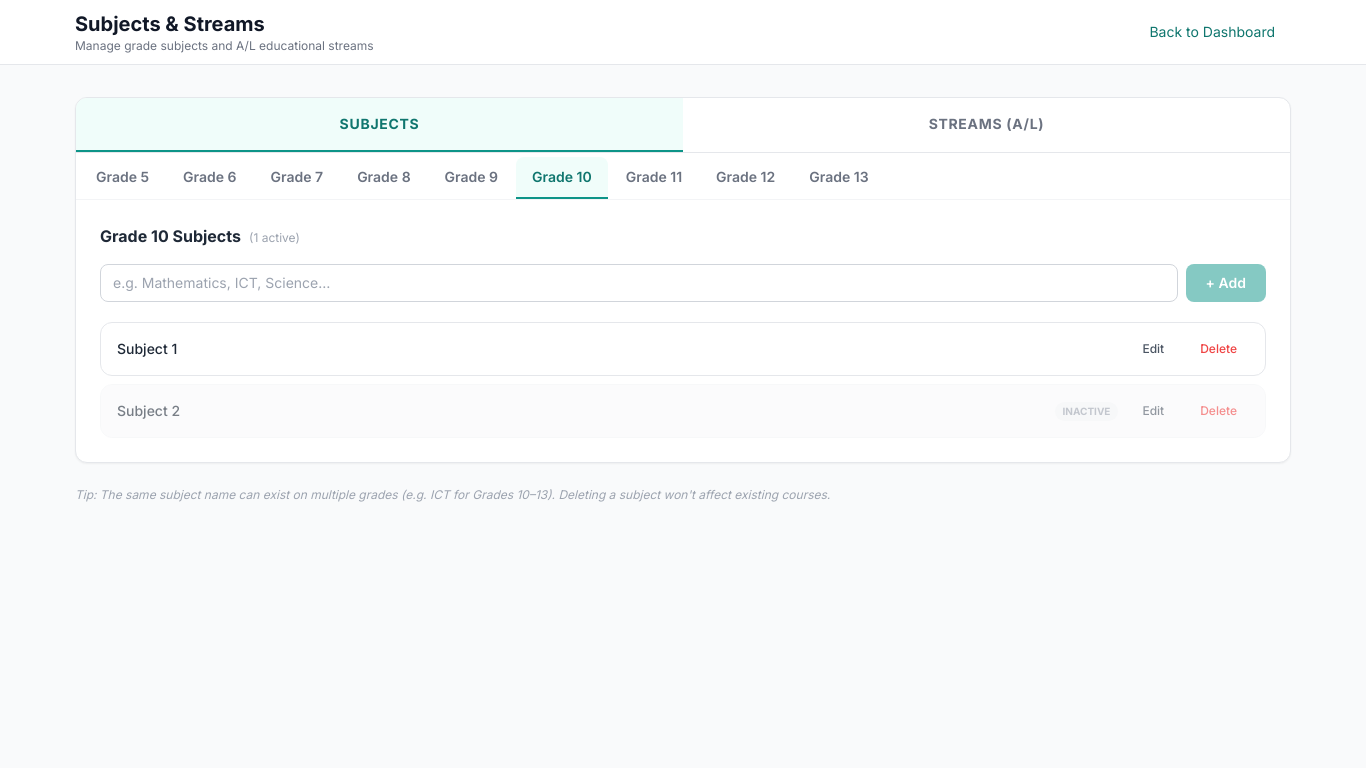
Test case: Subjects & streams › subjects tab › cancels an edit and reports a failed save
This screenshot has width=1366, height=768.
expect the text "Subject 1" is shown: met, box [117,340,177,357]
Click the button "Edit" in the row of "Subject 1" at (1153, 349), box [1130,335,1176,363]
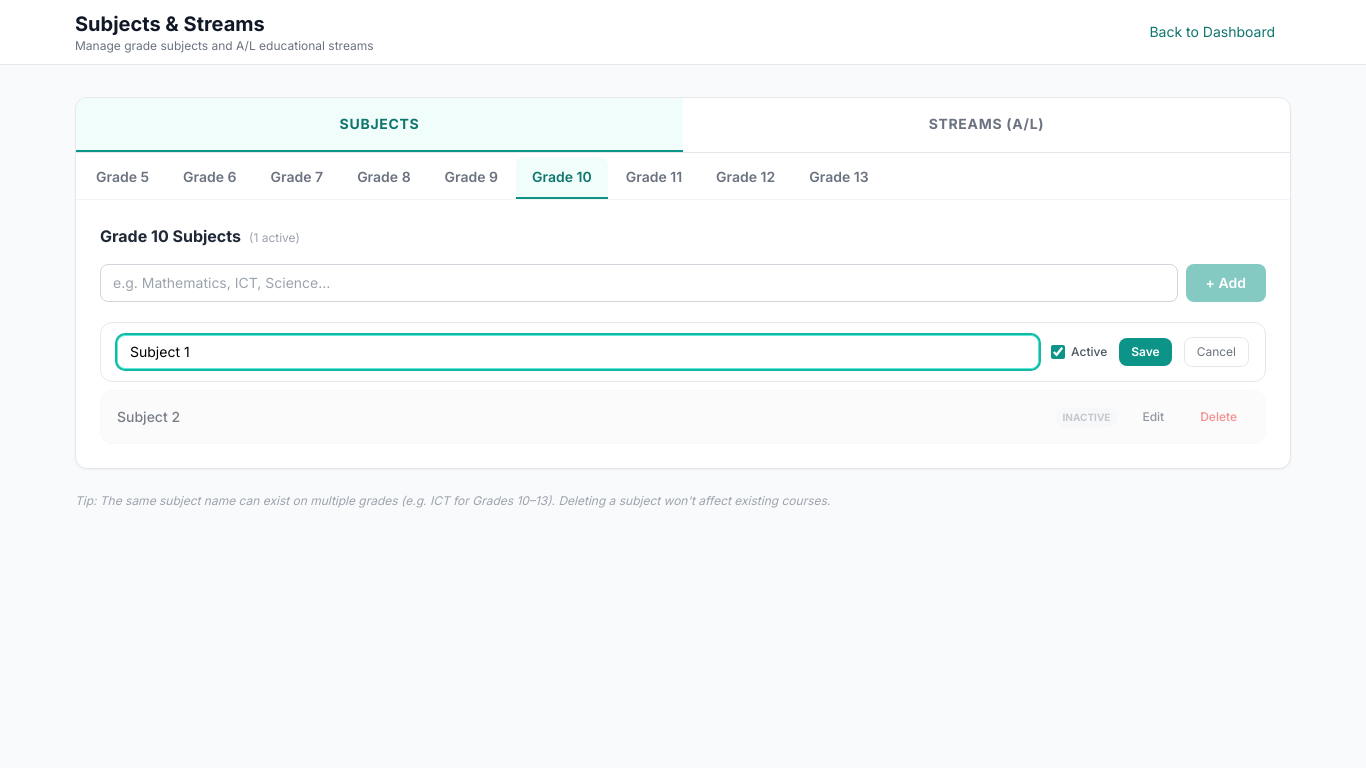
Click the button "Cancel" at (1216, 352), box [1184,337,1249,367]
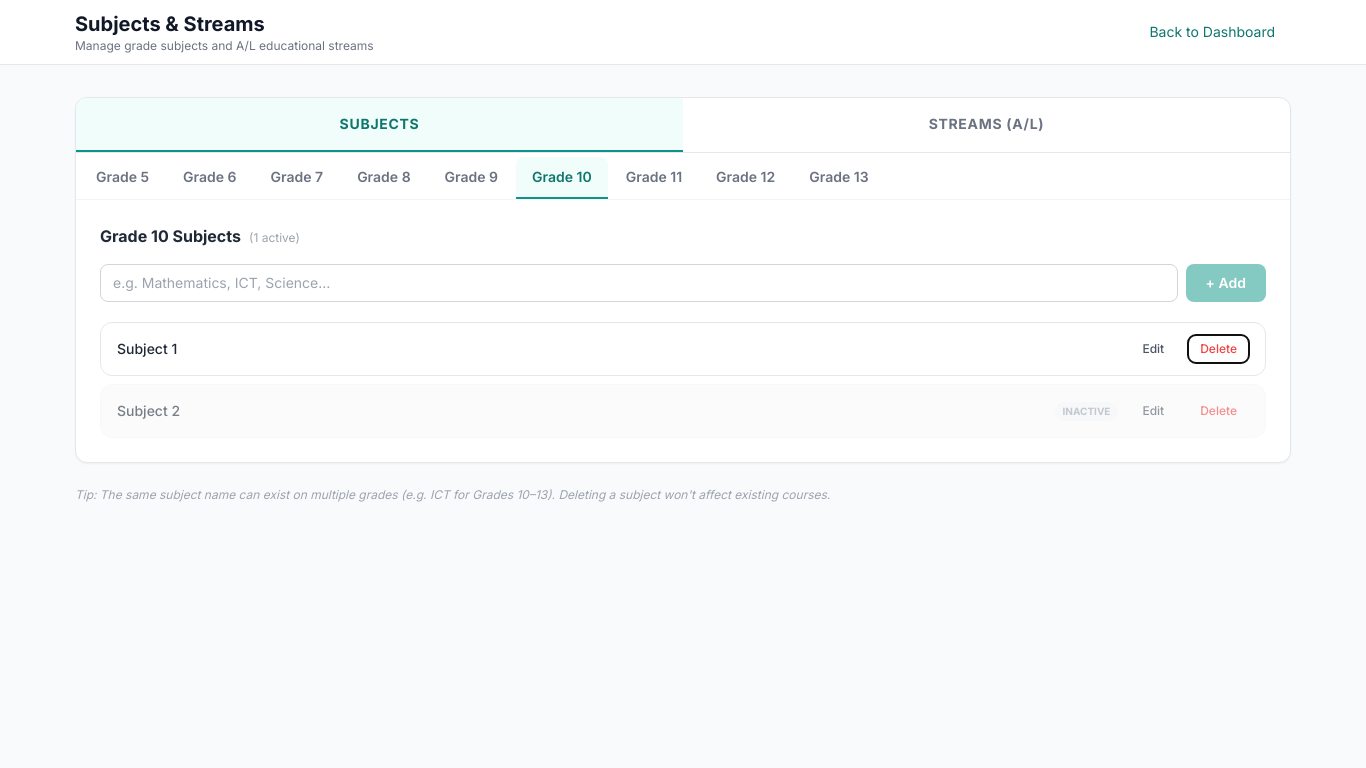
Click the button "Edit" in the row of "Subject 1" at (1153, 349), box [1130,335,1176,363]
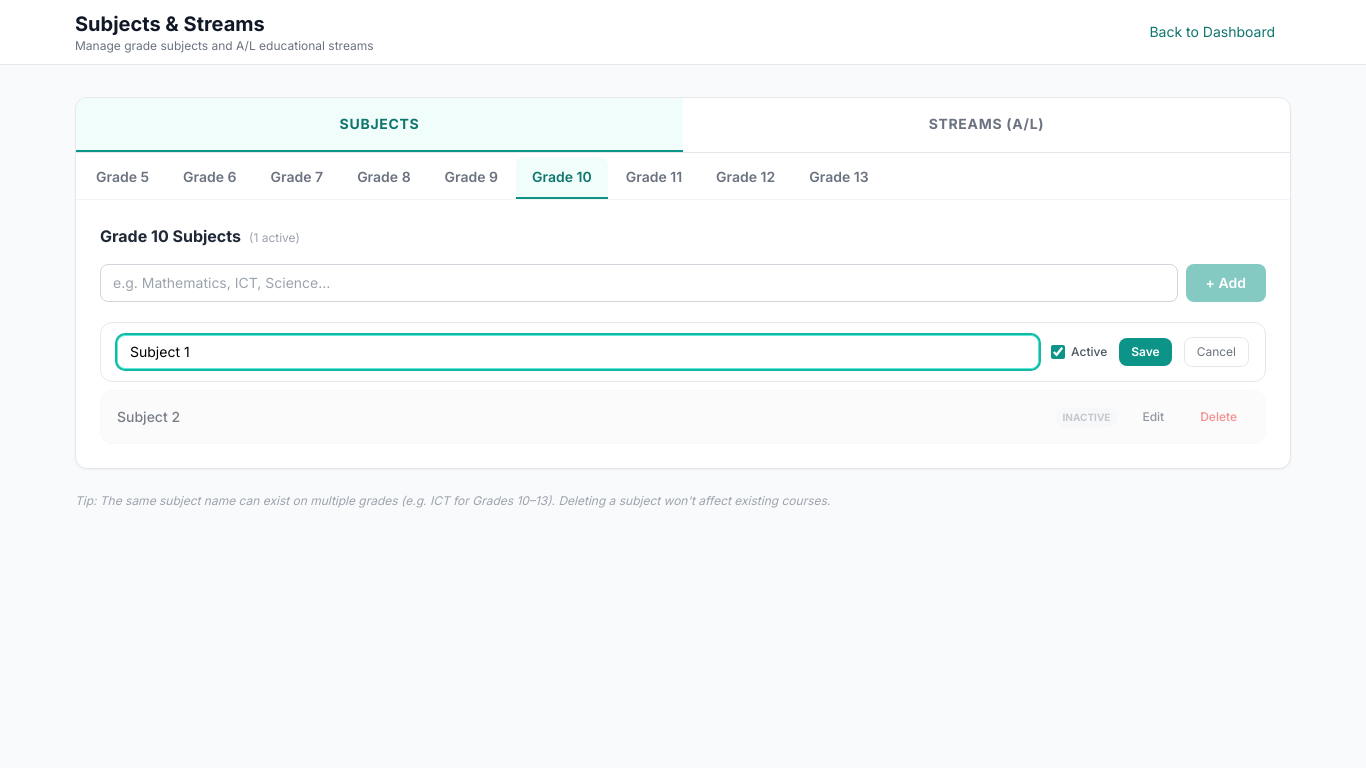
Click the button "Save" at (1145, 352), box [1119,338,1172,366]
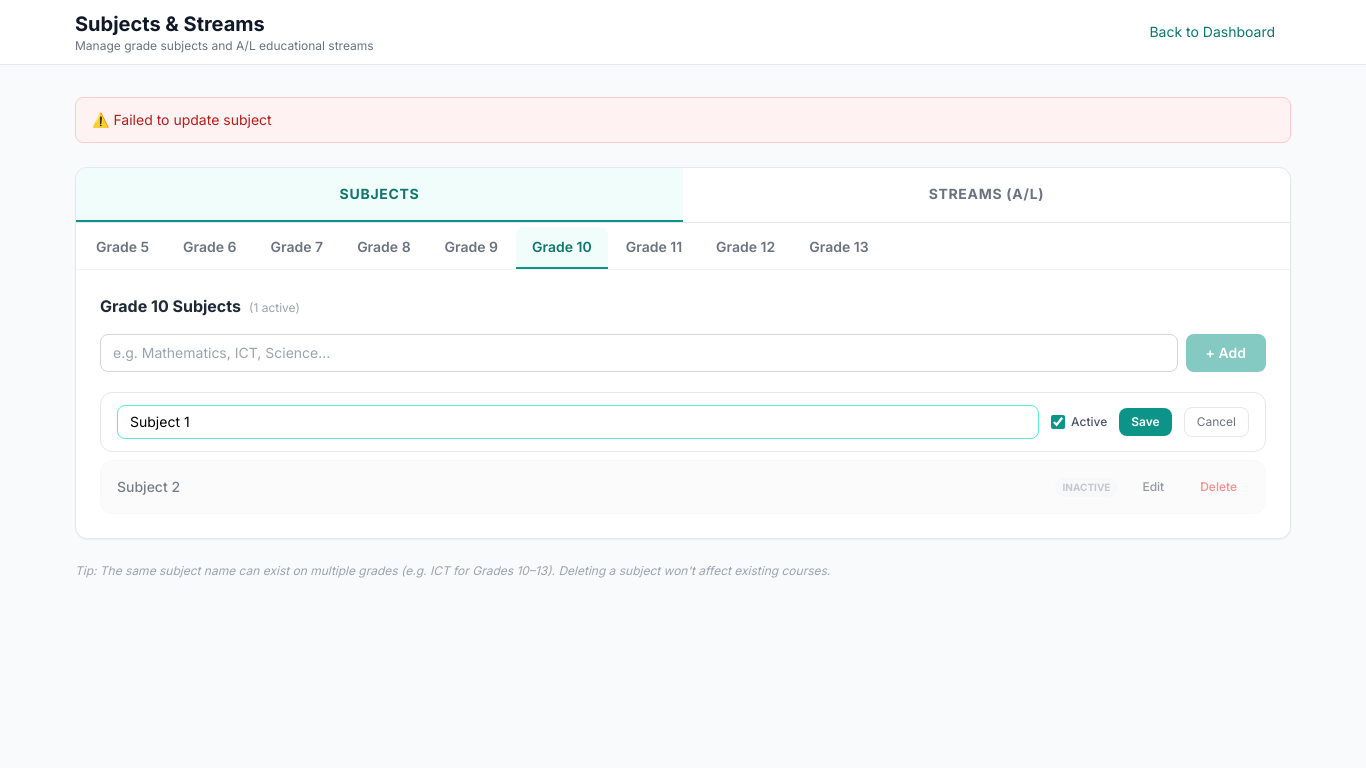
expect the text "⚠️ Failed to update subject" is shown: met, box [75,97,1291,143]
